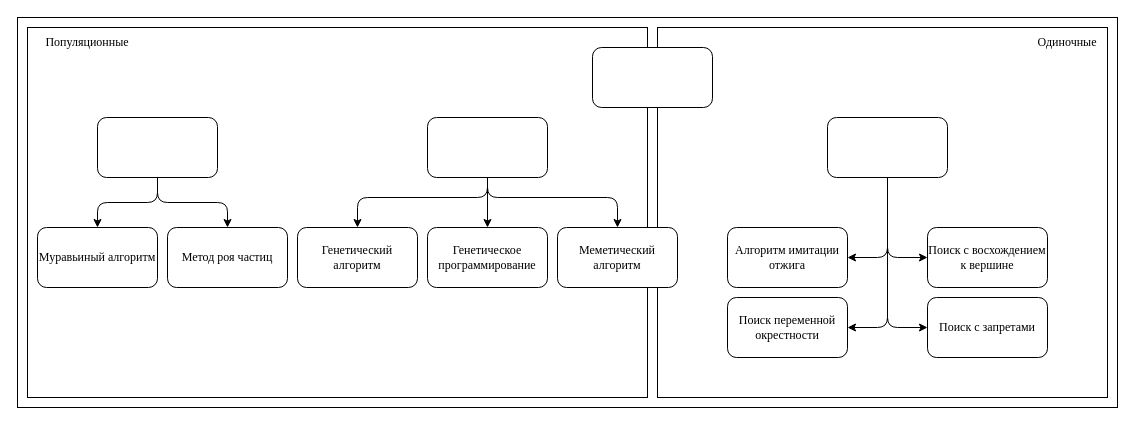
Some shapes in this 1135 by 425 pixel diagram are drawn without their labels. The shapes that lost their labels are listed below. From the top down, each one's centre as x and y in pixels, then its label:
At (652,77): "Метаэвристики".
At (157,147): "Метод роя".
At (487,147): "Эволюционные алгоритмы".
At (887,147): "Локальный поиск".
